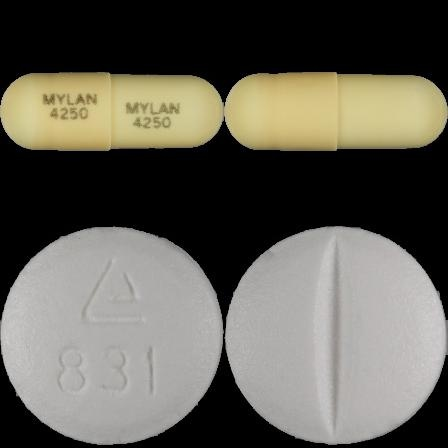21695-943: (0, 0, 224, 224)
